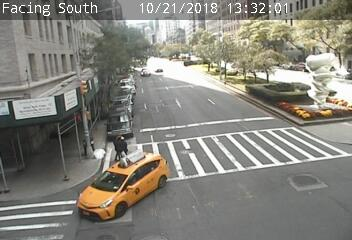car: (77, 152, 169, 221)
